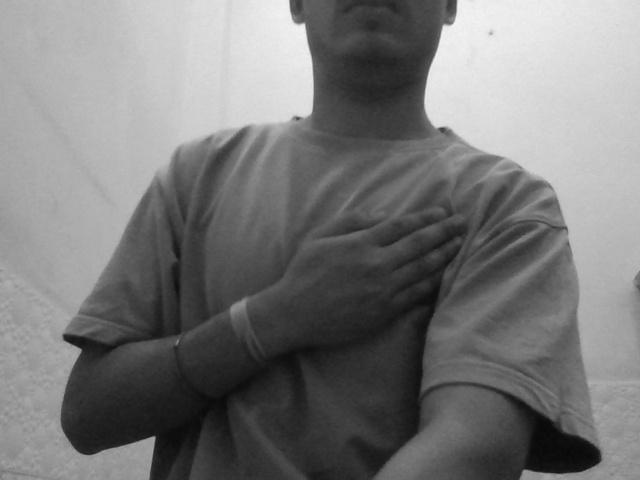Sorry: (255, 199, 505, 418)
